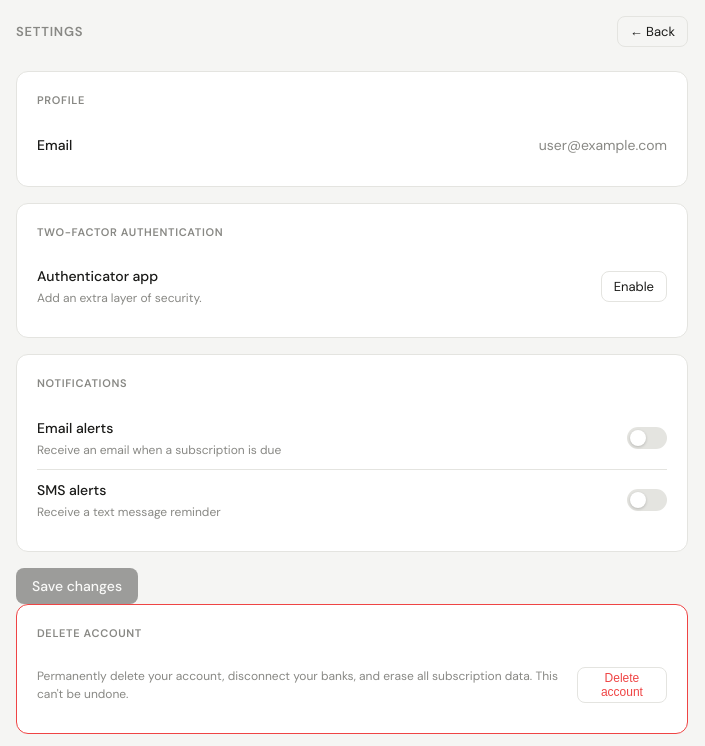
Test: Settings — phone number field › shows phone field after toggling SMS alerts on
Click the checkbox in the row of "Receive a text message reminder" at (647, 500), box [627,489,667,511]
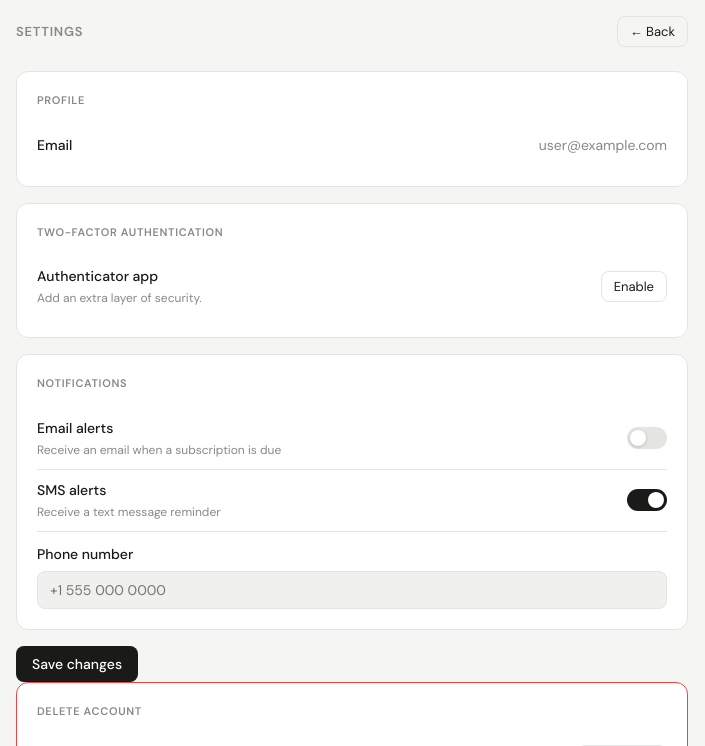
Expected: the field with placeholder "+1 555 000 0000" is shown, [37,570,667,608]
